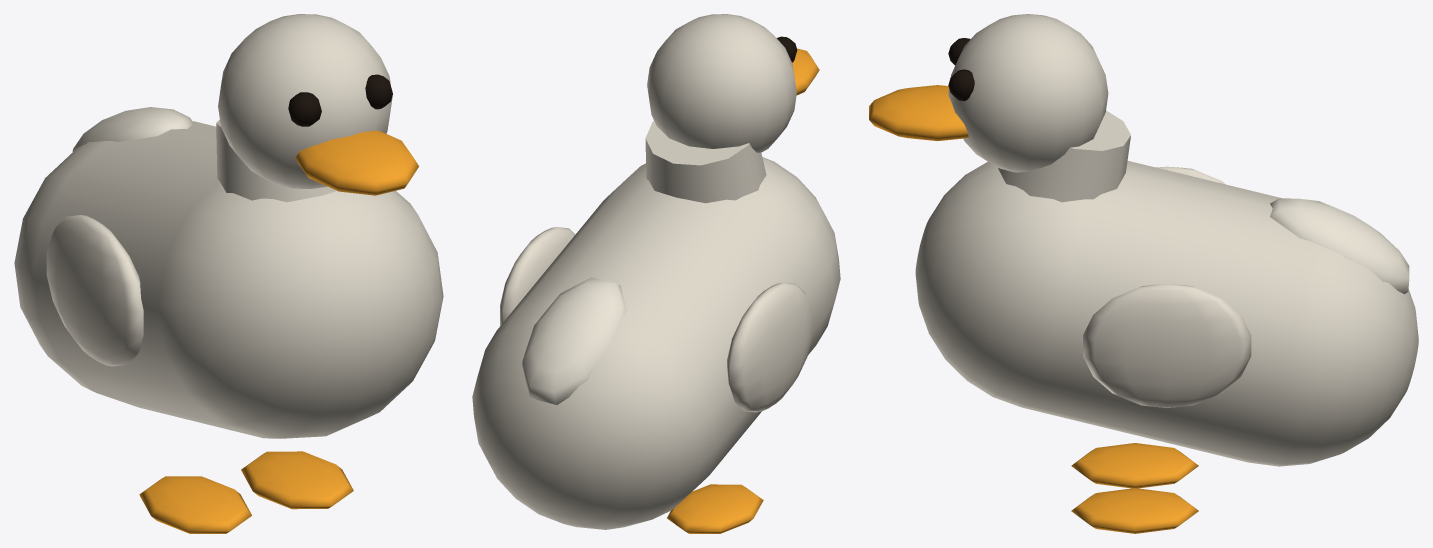
The model's file is h28-bebek.glb.
3 views of the same model, side by side, from view 1: azimuth 30°, elevation 25°; view 2: azimuth 150°, elevation 25°; view 3: azimuth 270°, elevation 25° (orthographic). The views are drawn at different scales.
Visible parts, largest first — view 1: Bebek, head; view 2: Bebek, head; view 3: Bebek, head.
Boxes of the visible parts, <box> form: Bebek: <box>14,107,443,533</box>; head: <box>218,14,418,195</box>; Bebek: <box>472,121,840,533</box>; head: <box>647,14,819,152</box>; Bebek: <box>915,110,1418,533</box>; head: <box>869,14,1108,172</box>.
Size of the model in its own units: 0.2994 by 0.495 by 0.515.
